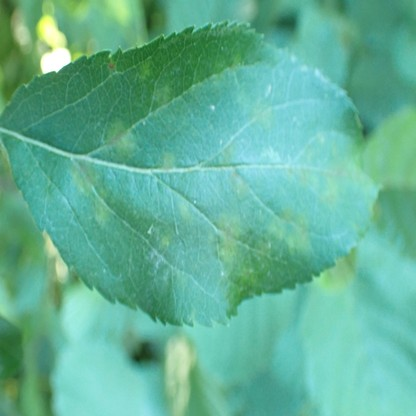frogeye_leaf_spot: (110, 63, 115, 69)
powdery_mildew: (145, 252, 167, 281)
scab: (256, 211, 294, 252), (211, 213, 241, 260), (325, 153, 364, 183), (69, 161, 96, 194), (107, 121, 133, 151), (94, 188, 115, 224), (288, 214, 309, 250), (249, 100, 273, 129), (229, 171, 248, 200), (288, 168, 315, 186), (320, 181, 336, 209), (221, 142, 236, 165), (154, 87, 171, 106), (139, 61, 151, 82), (162, 152, 175, 170), (179, 198, 190, 219), (161, 234, 171, 248)
